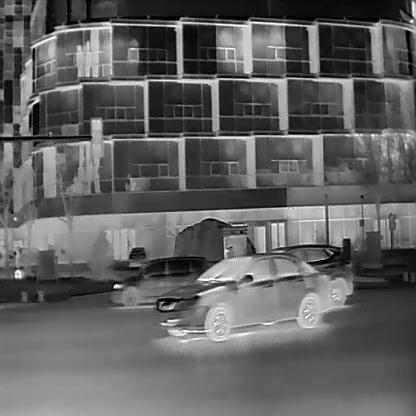car: (154, 254, 346, 343), (110, 253, 207, 313), (261, 244, 353, 307), (127, 245, 148, 270)
